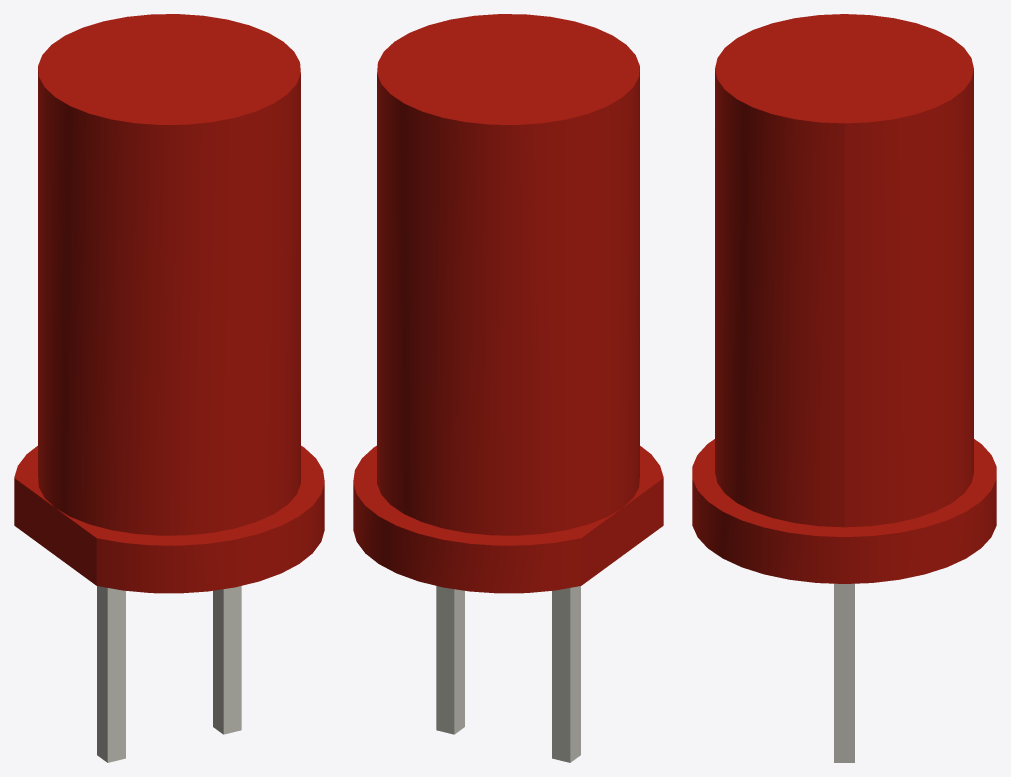
Rendered from kc-led_d5.0mm_flattop.glb.
3 renders of one model, left to right at view 1: azimuth 30°, elevation 25°; view 2: azimuth 150°, elevation 25°; view 3: azimuth 270°, elevation 25°, orthographic.
Visible parts, largest first — view 1: 0.4166666666666667_0_0_0, 0.6666666666666666_0.6666666666666666_0.5833333333333334_0.8; view 2: 0.4166666666666667_0_0_0, 0.6666666666666666_0.6666666666666666_0.5833333333333334_0.8; view 3: 0.4166666666666667_0_0_0, 0.6666666666666666_0.6666666666666666_0.5833333333333334_0.8.
Boxes of the visible parts, x1,y1,x2,y2 form: 0.4166666666666667_0_0_0: [14, 14, 324, 593]; 0.6666666666666666_0.6666666666666666_0.5833333333333334_0.8: [97, 586, 241, 762]; 0.4166666666666667_0_0_0: [353, 14, 663, 593]; 0.6666666666666666_0.6666666666666666_0.5833333333333334_0.8: [436, 586, 580, 762]; 0.4166666666666667_0_0_0: [692, 14, 996, 583]; 0.6666666666666666_0.6666666666666666_0.5833333333333334_0.8: [834, 583, 854, 762].
Size of the model in its own units: 0.545 by 1.41 by 0.5877.
